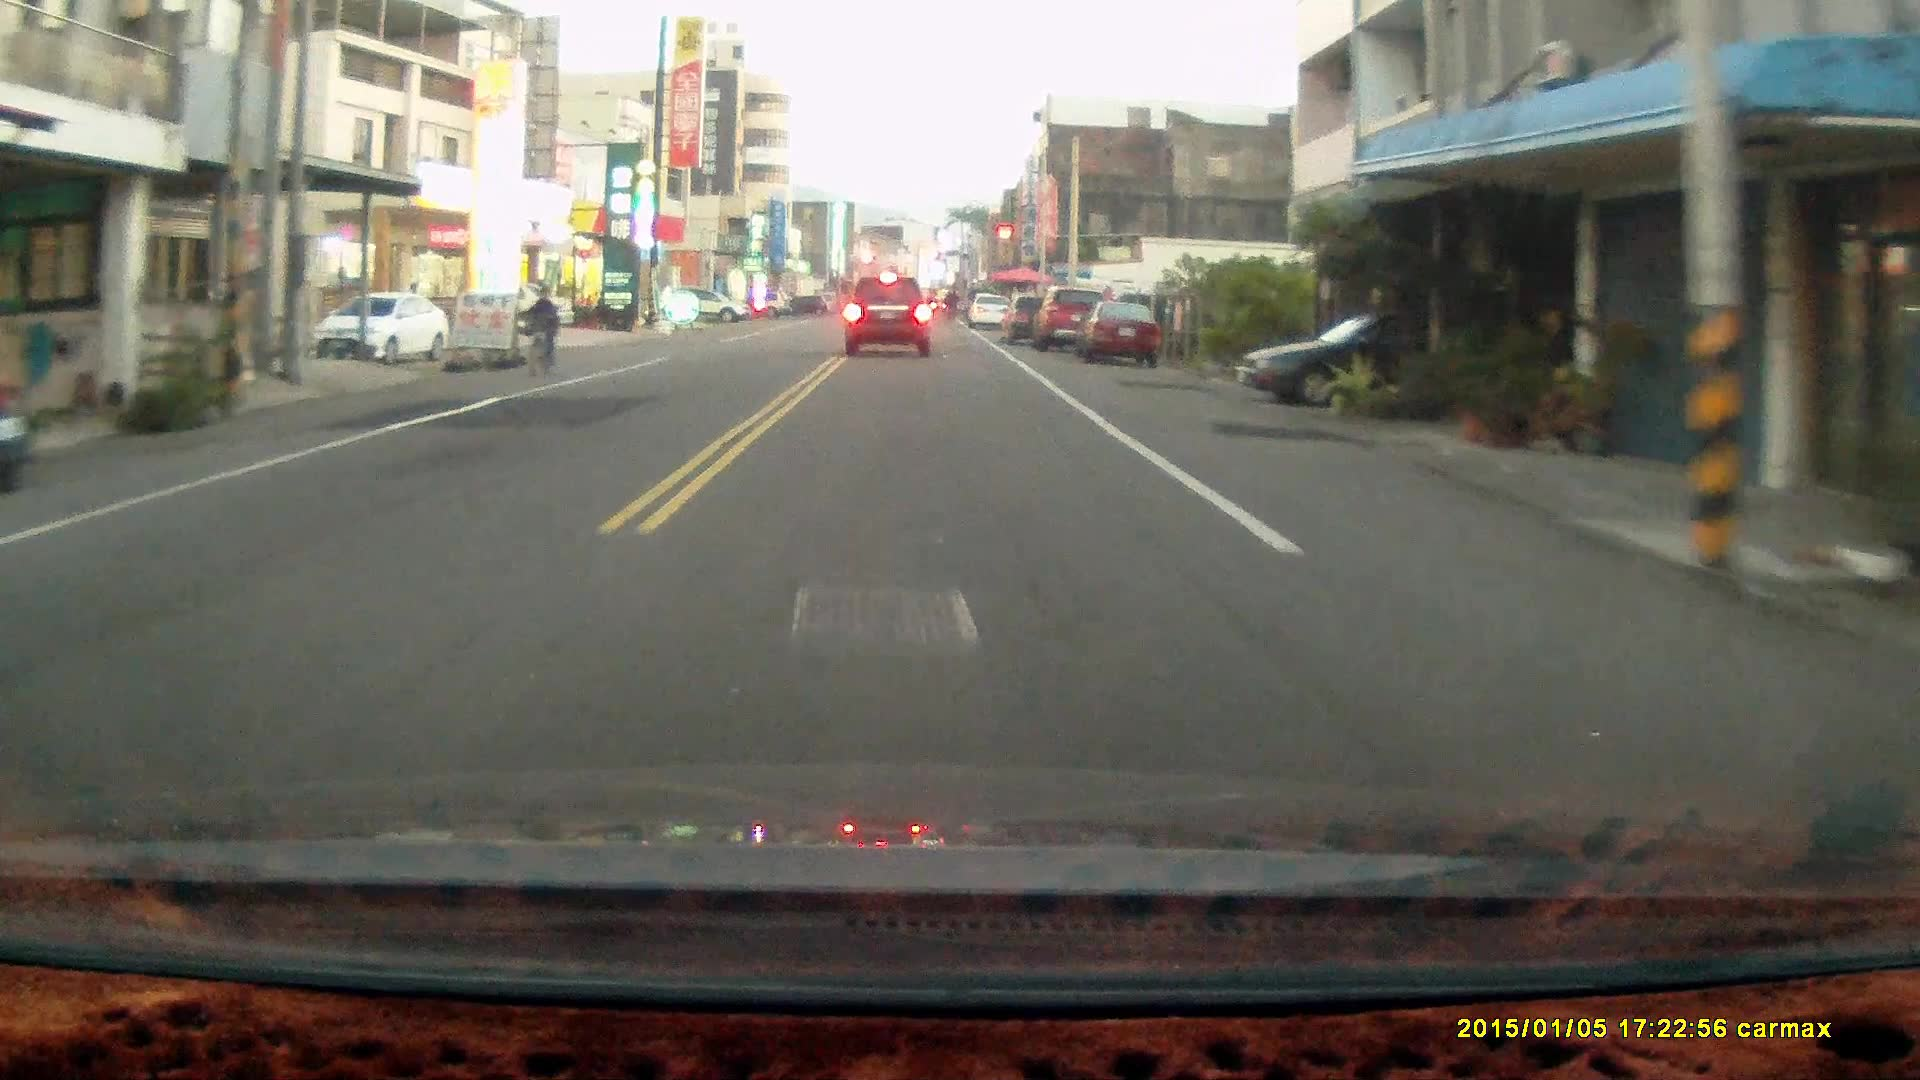rider: (523, 284, 556, 379)
vehicle: (1234, 313, 1510, 403), (312, 292, 448, 366), (841, 276, 937, 360), (447, 282, 577, 340), (1075, 299, 1163, 369), (662, 285, 748, 324)
